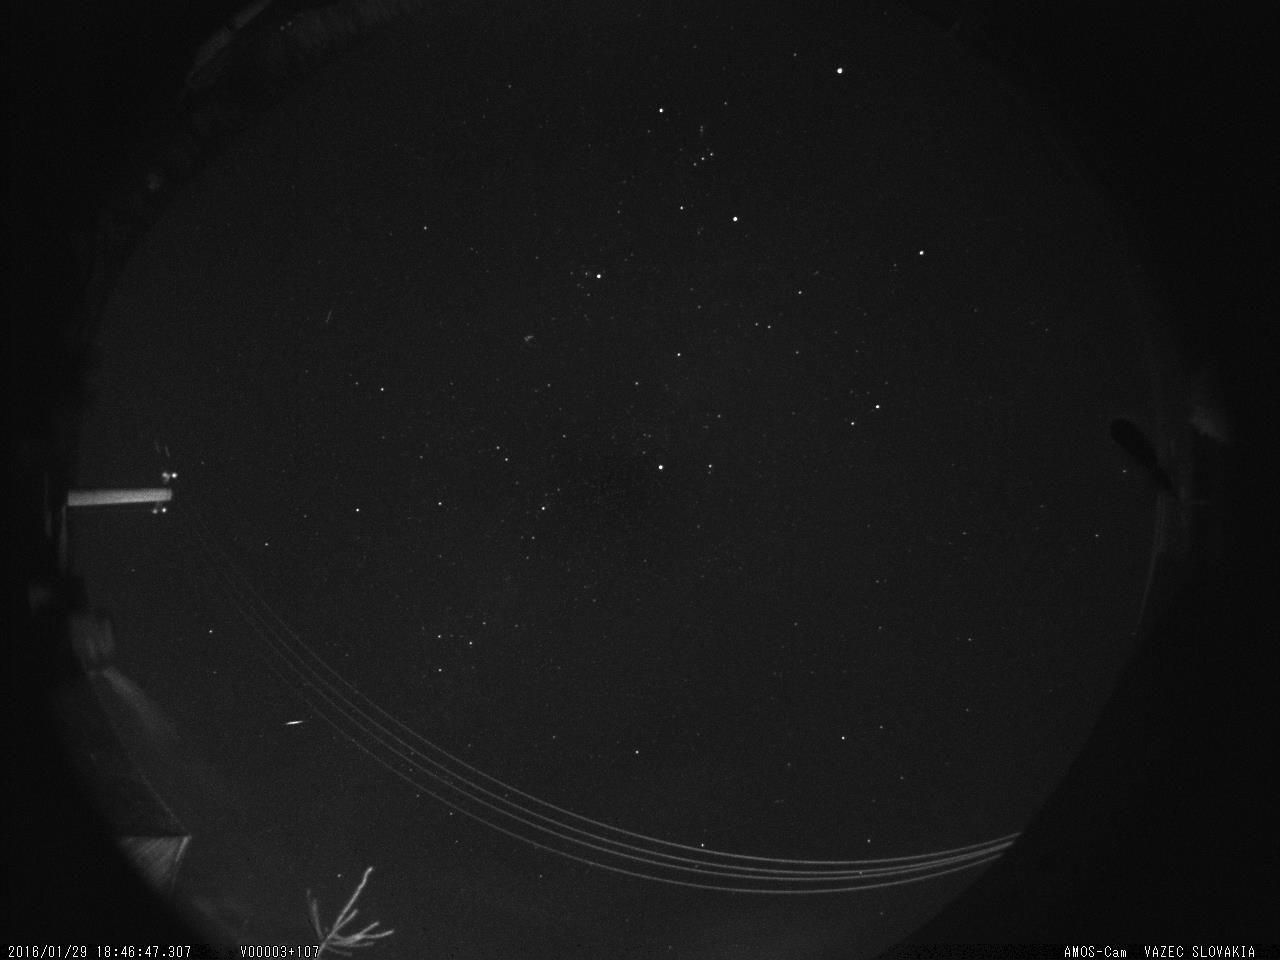meteor: (279, 717, 310, 727)
